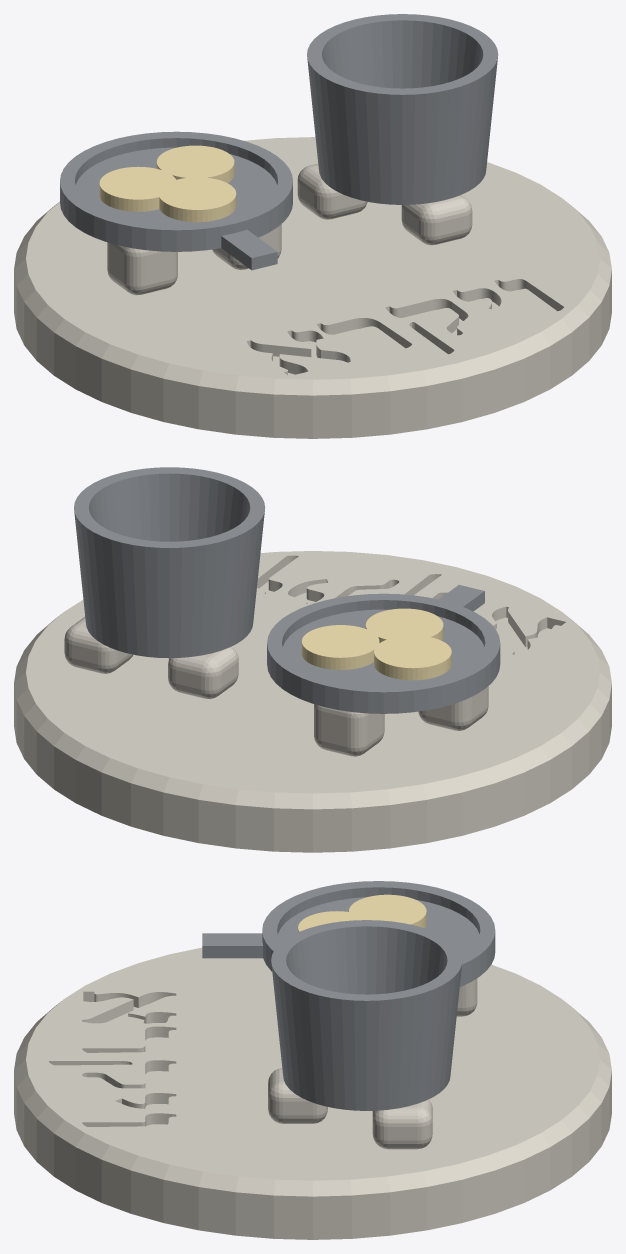
The model's file is vayikra.glb.
The picture shows the model from 3 angles, top to bottom: view 1: azimuth 30°, elevation 25°; view 2: azimuth 150°, elevation 25°; view 3: azimuth 270°, elevation 25°; orthographic projection.
Visible parts, largest first — view 1: stage, pot, griddle, cakes, hearth-2, hearth-1; view 2: stage, pot, griddle, cakes, hearth-2, hearth-1; view 3: stage, pot, griddle, hearth-2, cakes, hearth-1.
Part boxes in pixels (x1=…): stage: x1=14, y1=137, x2=611, y2=438; pot: x1=307, y1=14, x2=498, y2=204; griddle: x1=60, y1=131, x2=292, y2=270; cakes: x1=99, y1=145, x2=236, y2=222; hearth-2: x1=297, y1=163, x2=472, y2=245; hearth-1: x1=107, y1=224, x2=281, y2=295; stage: x1=14, y1=551, x2=611, y2=852; pot: x1=74, y1=467, x2=265, y2=658; griddle: x1=267, y1=585, x2=500, y2=713; cakes: x1=301, y1=608, x2=451, y2=680; hearth-2: x1=64, y1=616, x2=238, y2=698; hearth-1: x1=314, y1=686, x2=488, y2=756; stage: x1=14, y1=947, x2=611, y2=1239; pot: x1=271, y1=920, x2=462, y2=1110; griddle: x1=202, y1=881, x2=495, y2=986; hearth-2: x1=268, y1=1068, x2=432, y2=1149; cakes: x1=298, y1=894, x2=426, y2=932; hearth-1: x1=456, y1=978, x2=477, y2=1016.
Bounding box in the file's own units: 40 × 15.5 × 40.
